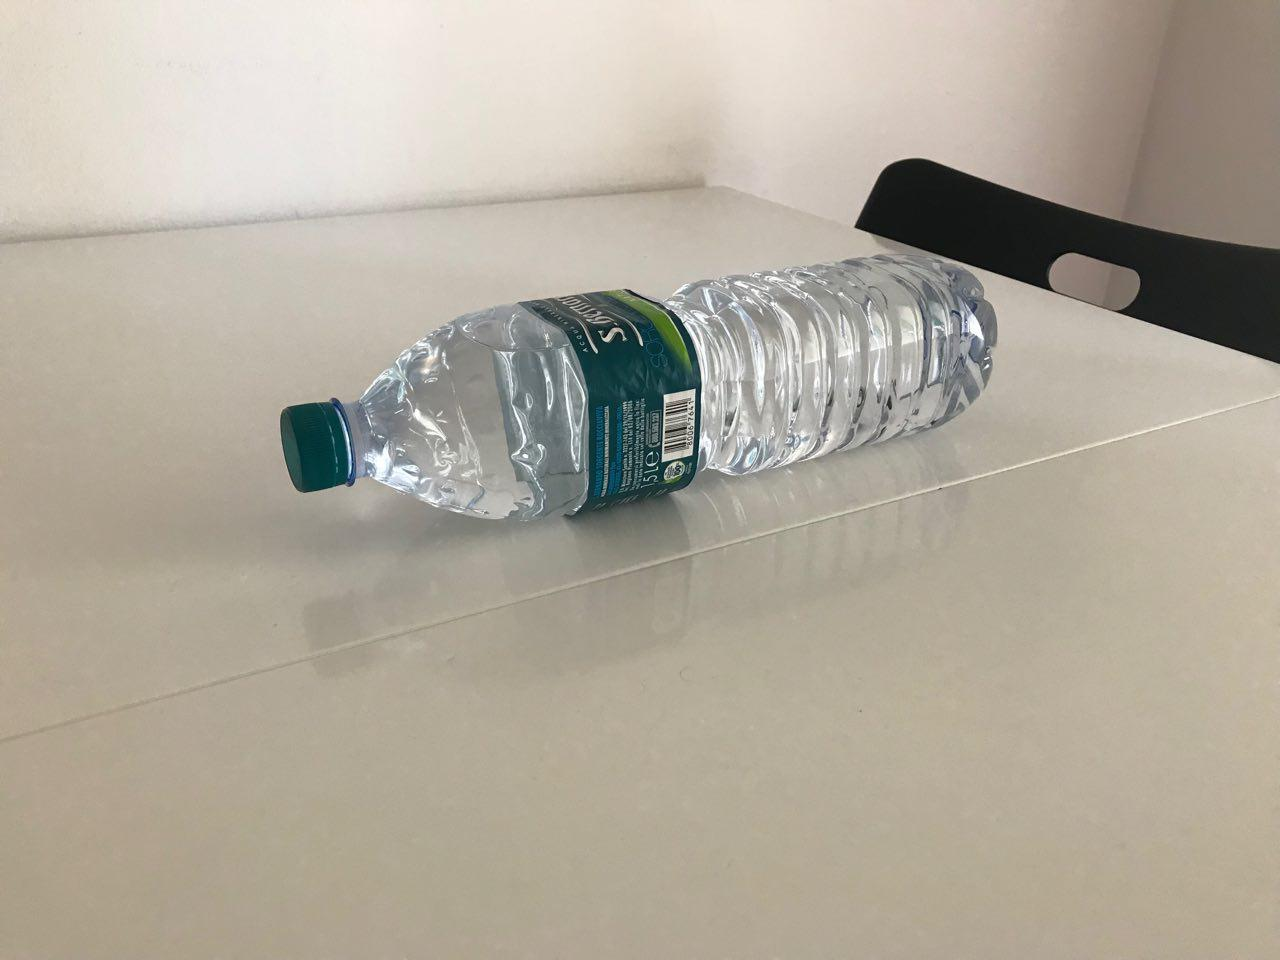san_bernardo: (279, 254, 999, 524)
